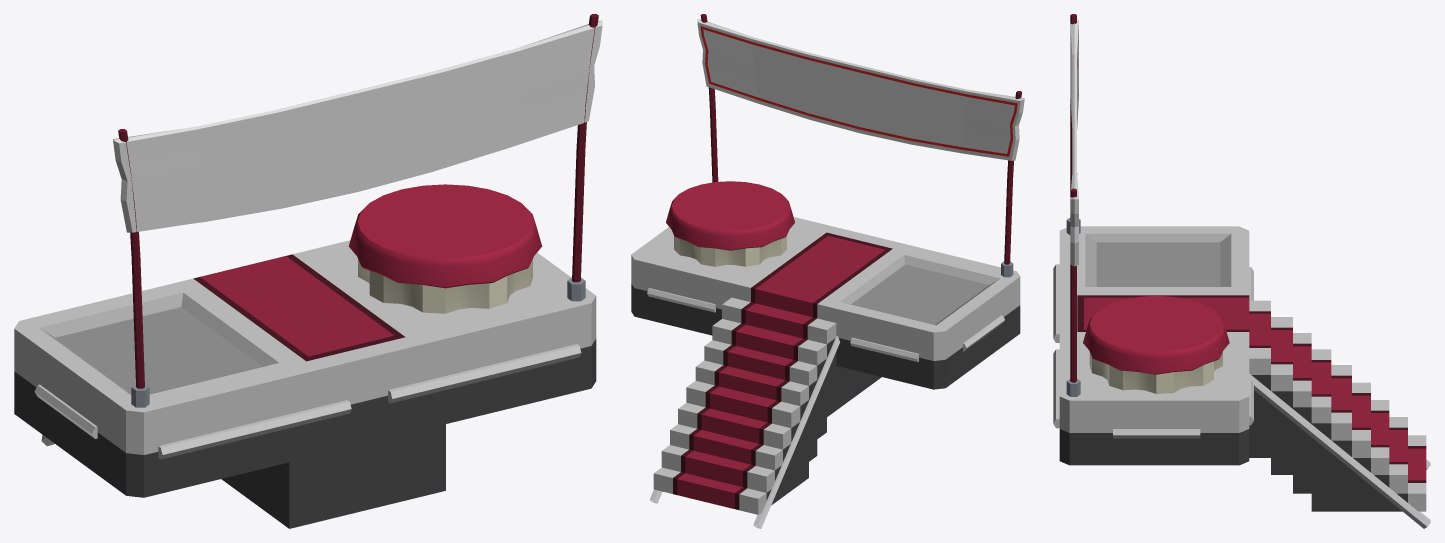
File: Winner Podium.fbx
3 renders of one model, left to right at view 1: azimuth 30°, elevation 25°; view 2: azimuth 150°, elevation 25°; view 3: azimuth 270°, elevation 25°, orthographic. The views are drawn at different scales.
Parts seen in each view (by area): view 1: Winner Podium; view 2: Winner Podium; view 3: Winner Podium.
Part boxes in pixels (left/top/right/bottom): Winner Podium: left=14, top=14, right=602, bottom=528; Winner Podium: left=631, top=14, right=1024, bottom=528; Winner Podium: left=1053, top=14, right=1430, bottom=528.
Size of the model in its own units: 1807 by 1842 by 1590.
